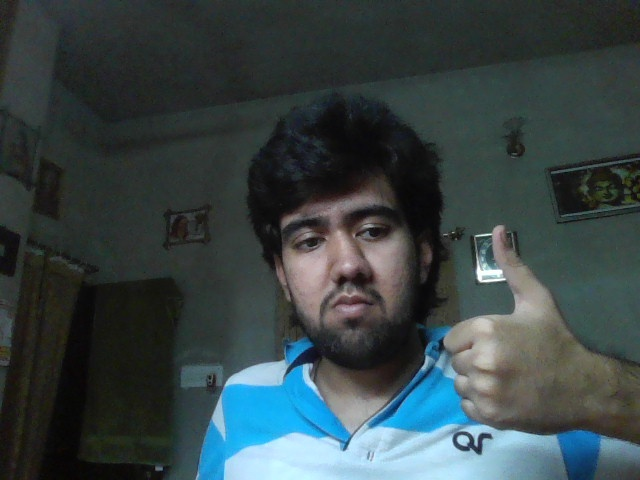Ok: (443, 225, 591, 433)
